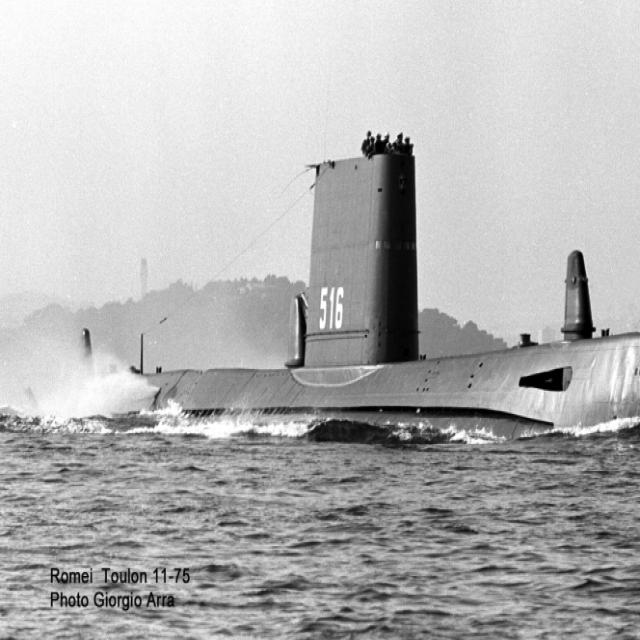submarine: (66, 153, 640, 442)
